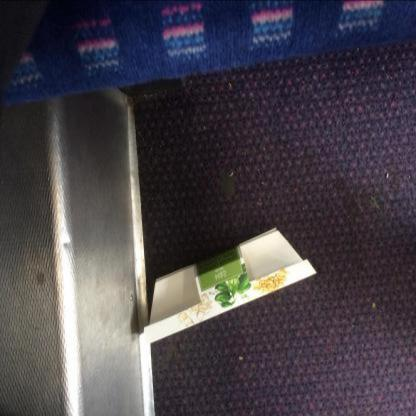Carton: (143, 227, 317, 346)
